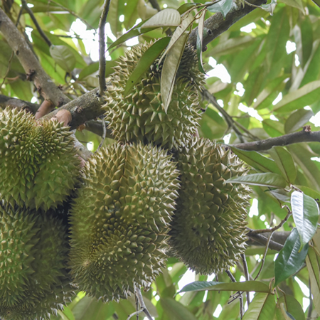sau_rieng: (64, 137, 185, 299), (175, 137, 255, 277)
